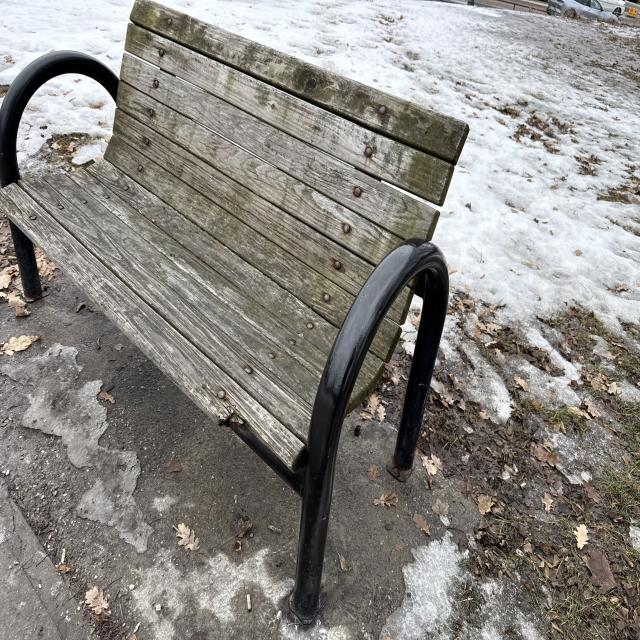Bench: (82, 31, 471, 614)
